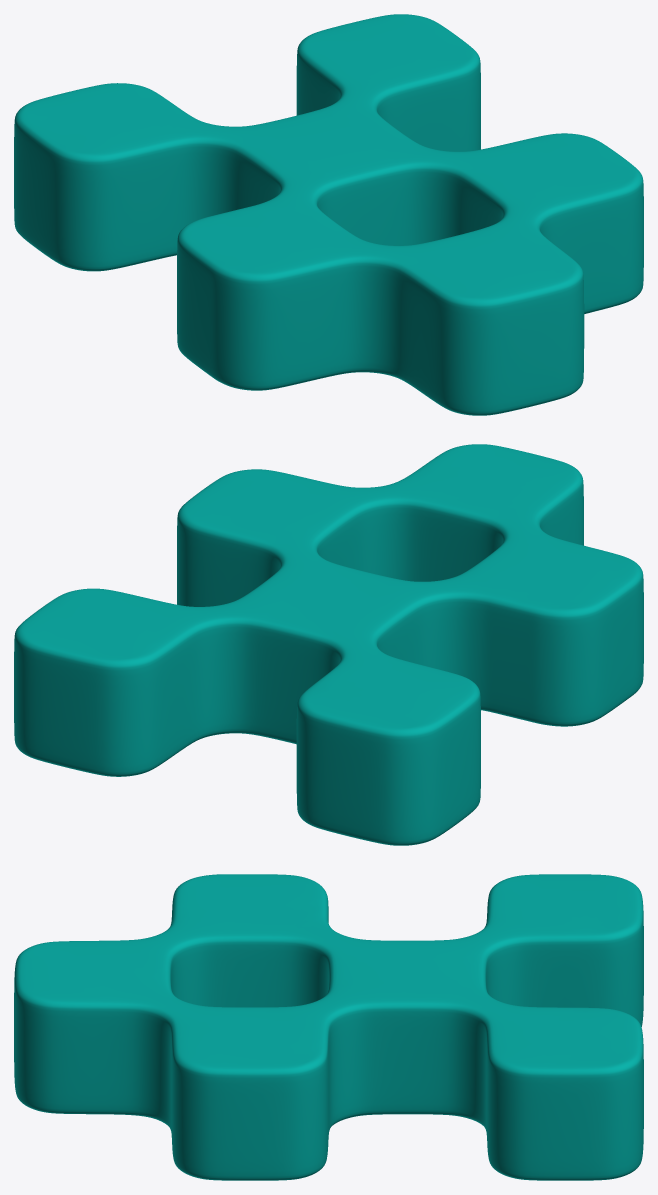
3 views of the same model, one above another, from view 1: azimuth 30°, elevation 25°; view 2: azimuth 150°, elevation 25°; view 3: azimuth 270°, elevation 25° (orthographic). The views are drawn at different scales.
Parts seen in each view (by area): view 1: EC; view 2: EC; view 3: EC.
Part boxes in pixels (<box>): EC: <box>14,14,643,415</box>; EC: <box>14,444,643,845</box>; EC: <box>14,874,643,1180</box>.
Size of the model in its own units: 4.16 by 1.09 by 5.53.
